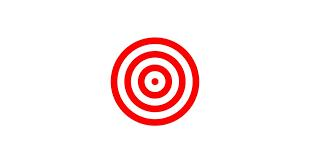target_red: (110, 36, 199, 126)
